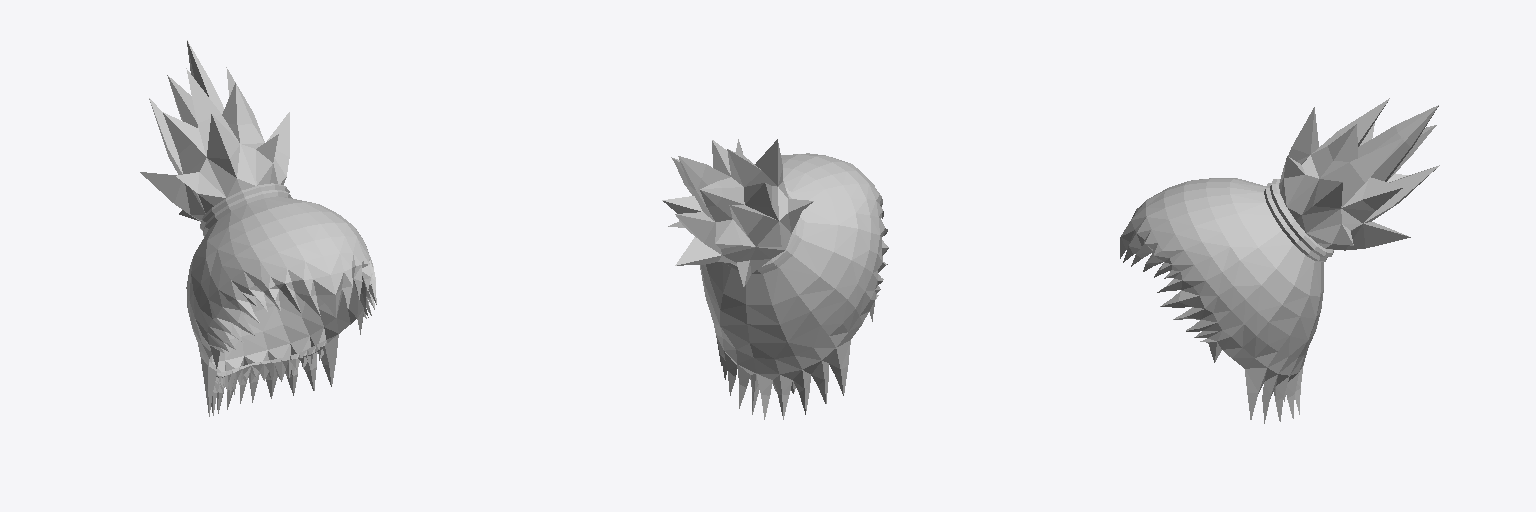
File: ShikamaruHair.obj
The picture shows the model from 3 angles: view 1: azimuth 30°, elevation 25°; view 2: azimuth 150°, elevation 25°; view 3: azimuth 270°, elevation 25°; orthographic projection.
Visible parts, largest first — view 1: 5_Hair_1_0_0; view 2: 5_Hair_1_0_0; view 3: 5_Hair_1_0_0.
Part boxes in pixels (x1,y1,x2,y2): 5_Hair_1_0_0: (140,40,376,416); 5_Hair_1_0_0: (662,139,888,419); 5_Hair_1_0_0: (1120,98,1439,423).
Bounding box in the file's own units: 0.1904 × 0.3544 × 0.3293.